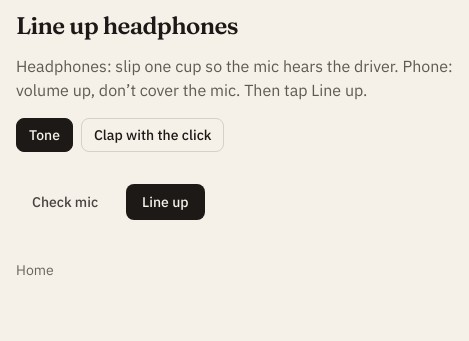
it: CalibrationPage › reveals a mic meter after Check mic and hides the button
Click the button "Check mic".
click(65, 202)  # box [16,184,114,220]
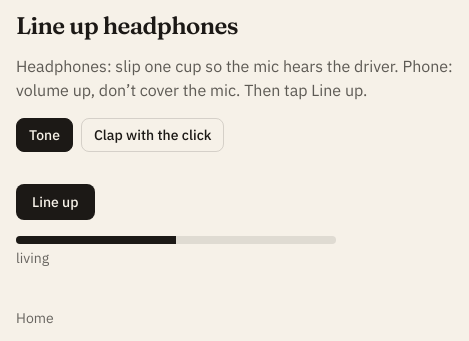
Now the element named "Microphone level" is shown, box [16,236,336,244]
Now the button "Check mic" is gone
Now the text "living" is shown, box [16,248,49,268]
